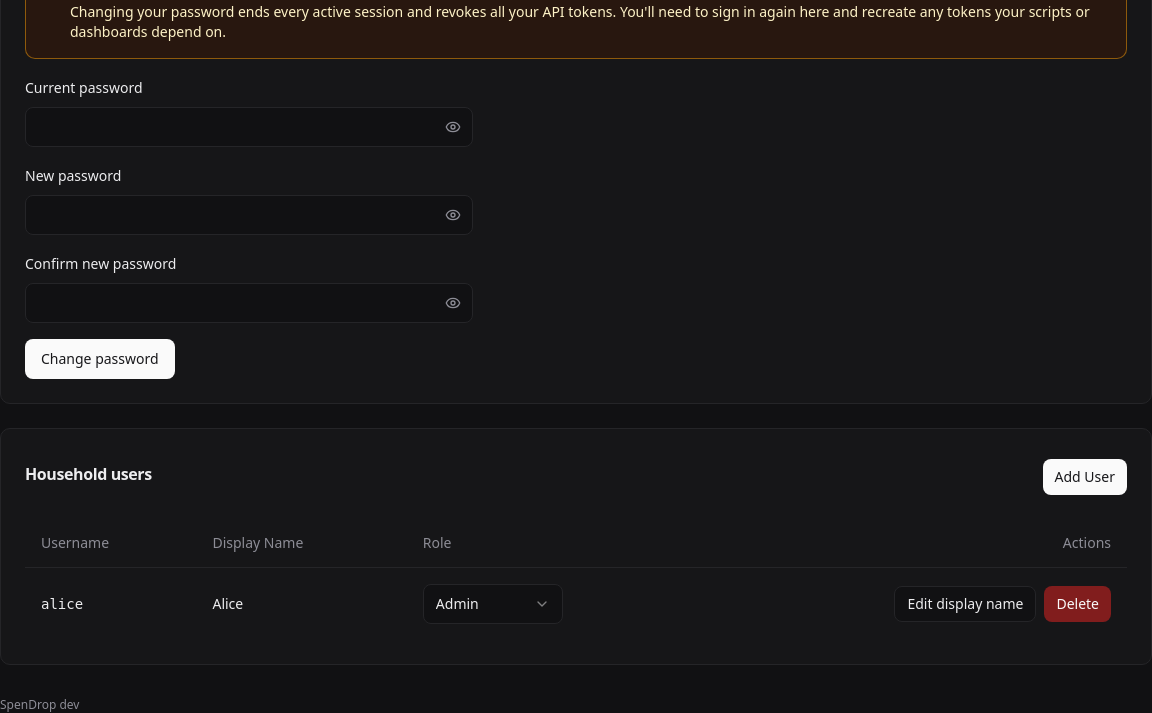
Settings › as admin › display name editor › puts a 400 from the server on the field, not in a toast
(page scrolled)
Click the button with aria-label "Edit display name for alice" at {"x": 965, "y": 604}, box [894, 586, 1036, 622]
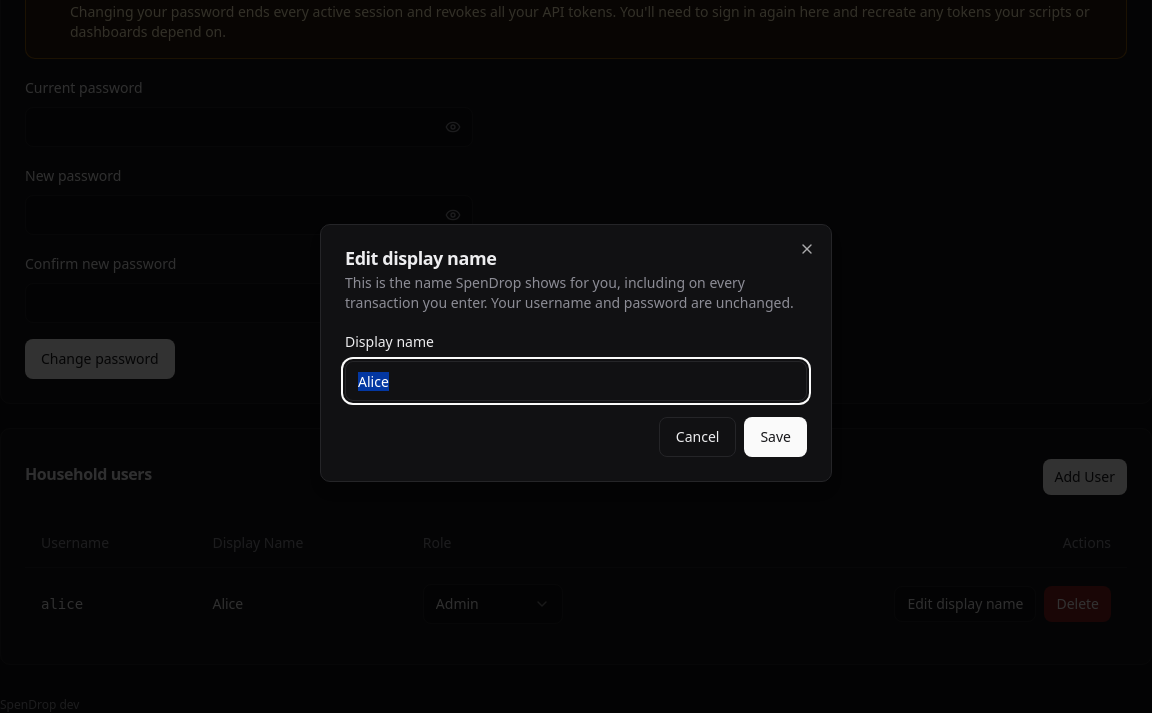
Replace the text in the field labelled "Display name" with "Ali" at {"x": 576, "y": 381}, box [345, 361, 807, 401]
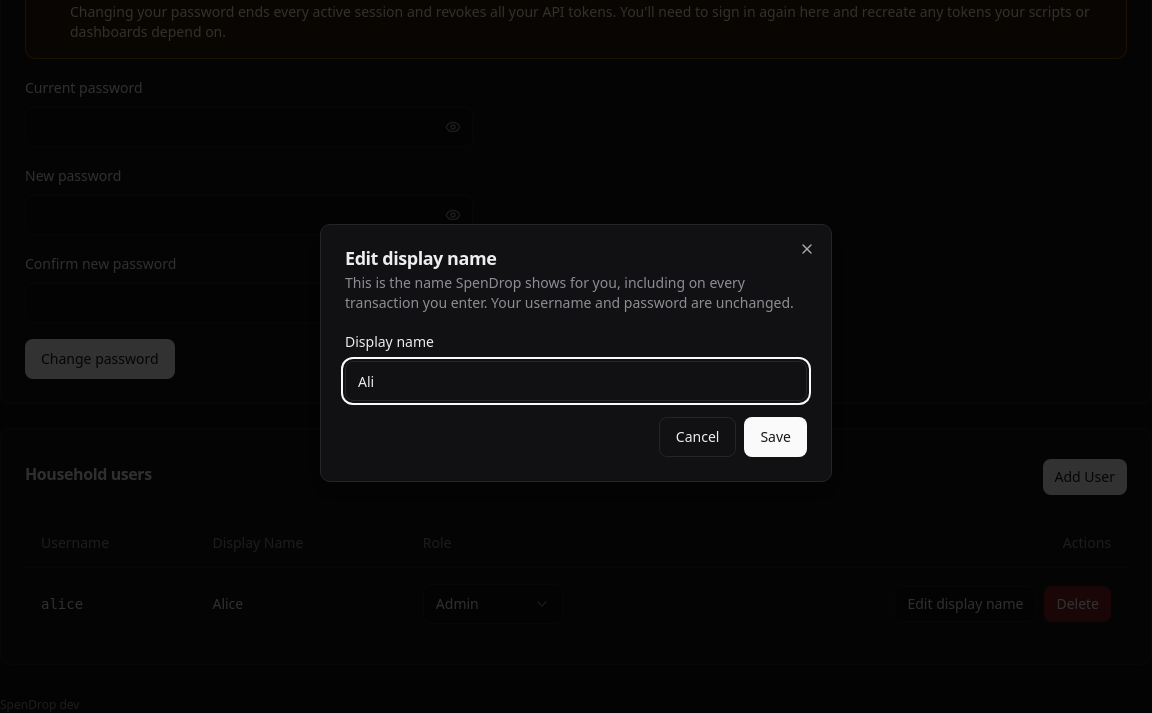
Click the button "Save" at {"x": 776, "y": 437}, box [744, 417, 807, 457]
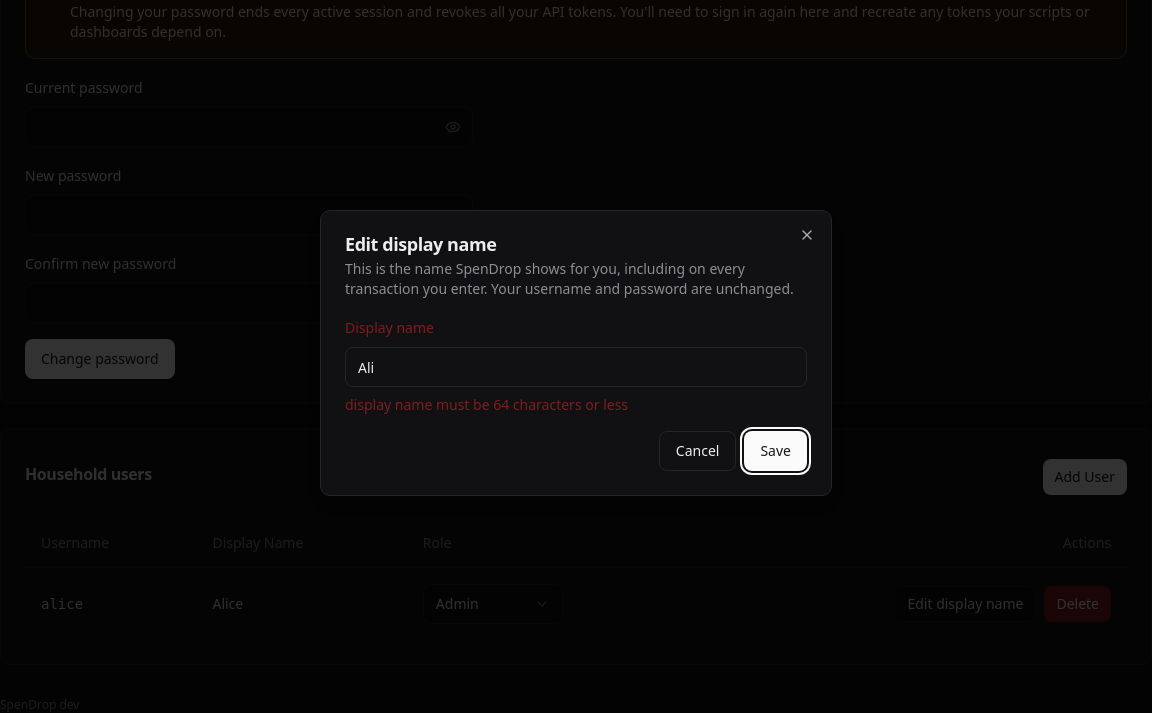
Now the text "display name must be 64 characters or less" is shown, box [345, 395, 628, 414]
